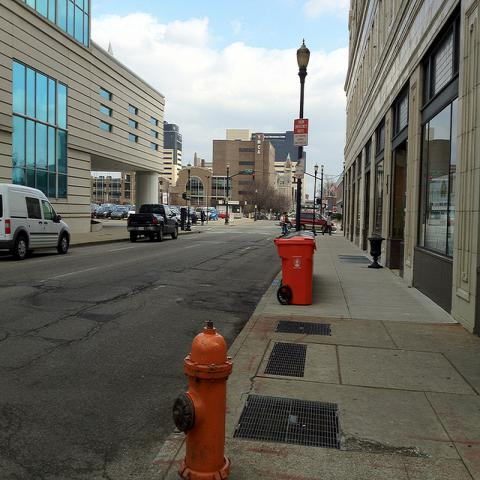car: (0, 183, 72, 262), (301, 211, 338, 232), (170, 206, 183, 226), (96, 206, 114, 220), (111, 206, 128, 220), (194, 206, 211, 220), (285, 212, 296, 231), (126, 204, 136, 218), (91, 204, 100, 219), (210, 209, 219, 220), (216, 210, 227, 219), (256, 212, 268, 220)
truck: (0, 182, 71, 260), (126, 203, 179, 242)
